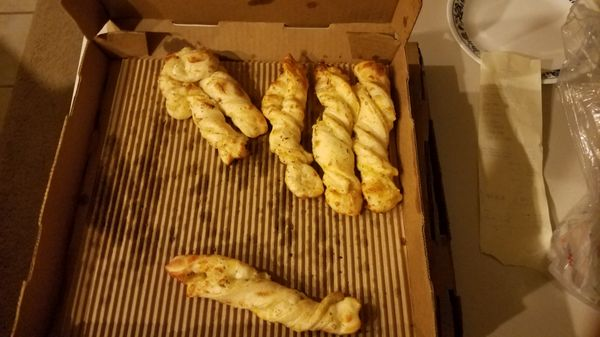pasta: (165, 251, 363, 333)
